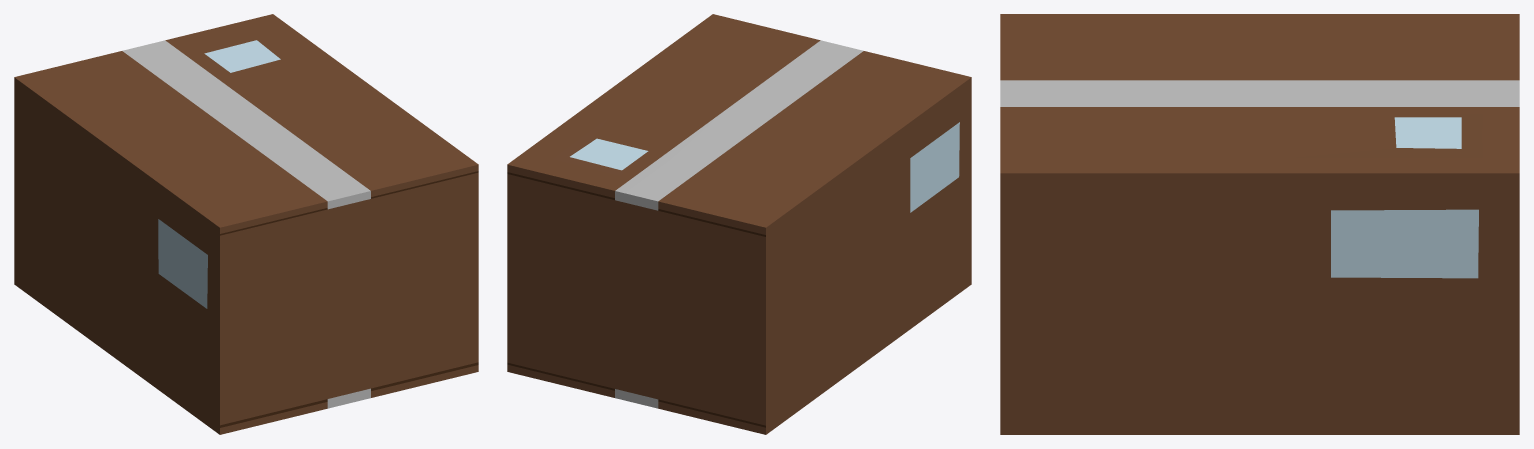
The model's file is Cs_Sml_DkBrn.fbx.
3 renders of one model, left to right at view 1: azimuth 30°, elevation 25°; view 2: azimuth 150°, elevation 25°; view 3: azimuth 270°, elevation 25°, orthographic. The views are drawn at different scales.
Parts seen in each view (by area): view 1: Cs_Sml_DkBrn; view 2: Cs_Sml_DkBrn; view 3: Cs_Sml_DkBrn.
Part boxes in pixels (bbox=[...]): Cs_Sml_DkBrn: bbox=[14, 14, 478, 434]; Cs_Sml_DkBrn: bbox=[507, 14, 971, 434]; Cs_Sml_DkBrn: bbox=[1000, 14, 1519, 434].
Bounding box in the file's own units: 0.1872 × 0.2577 × 0.1434.
